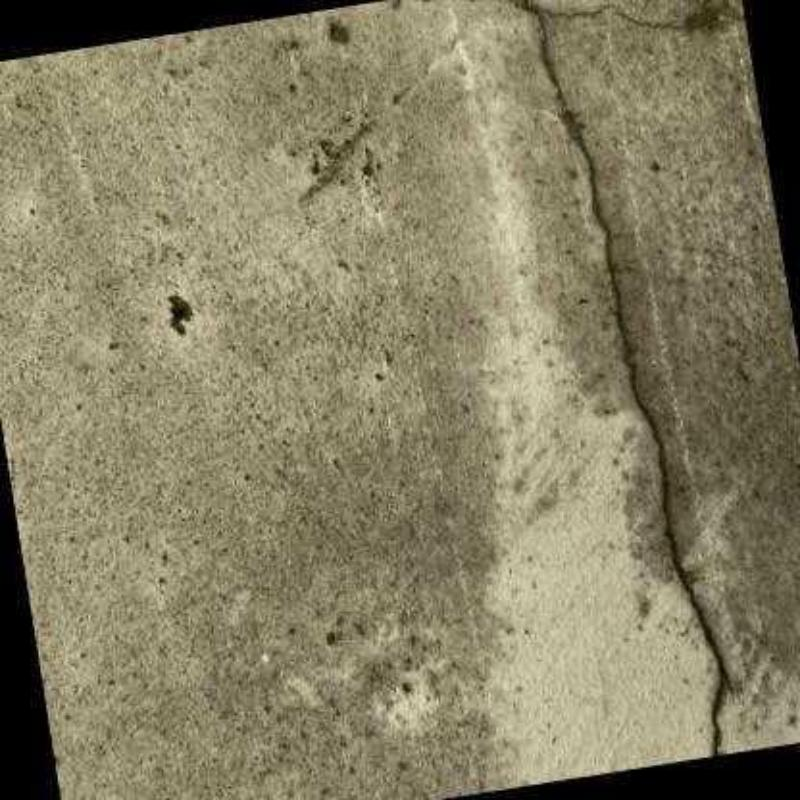pothole: (334, 0, 730, 757)
